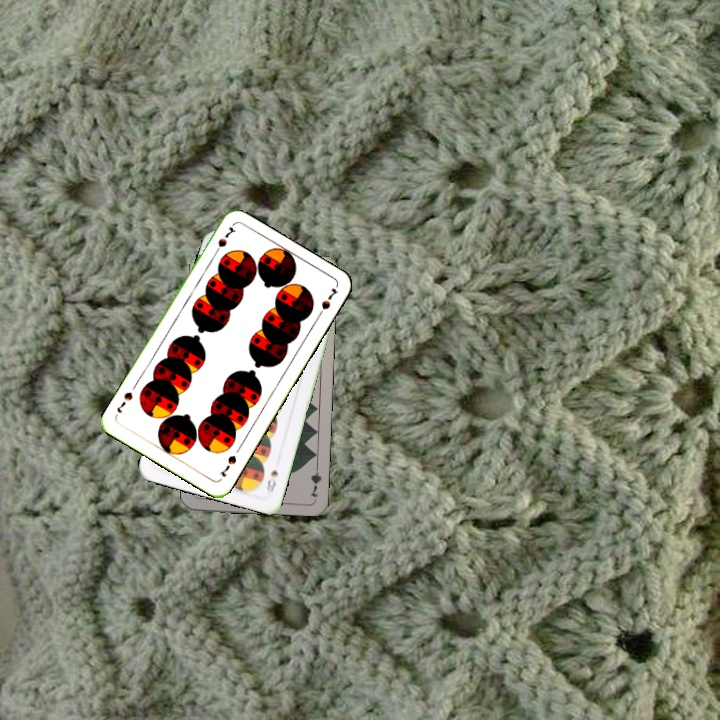G7: (306, 459, 324, 500)
S7: (210, 222, 238, 259), (216, 451, 239, 479)
S8: (262, 466, 280, 496)
